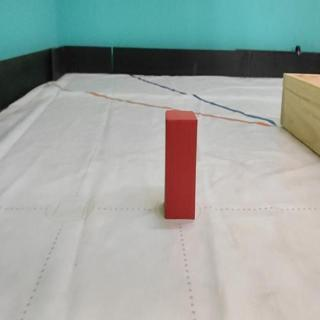redbox: (163, 109, 198, 218)
